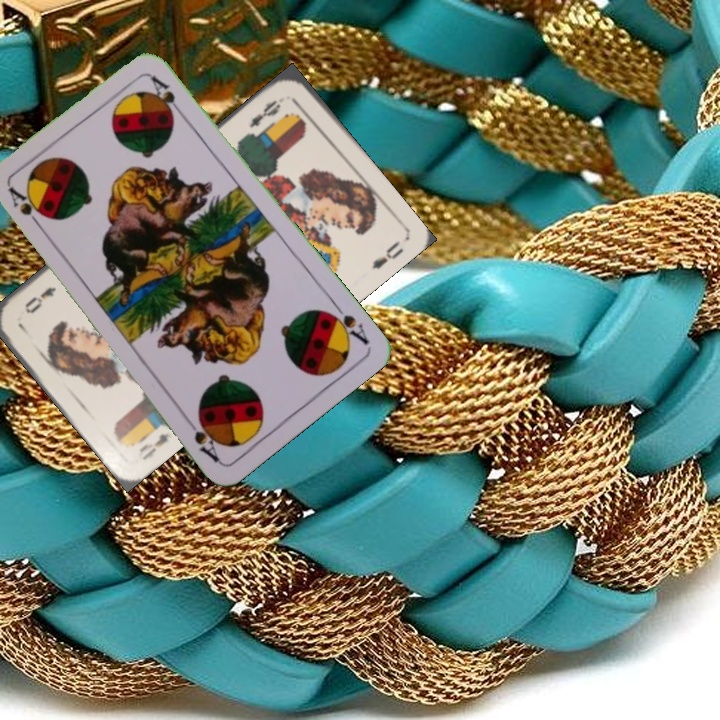EO: (245, 92, 287, 131), (135, 429, 175, 463)
SA: (321, 297, 372, 347), (4, 183, 47, 234)
